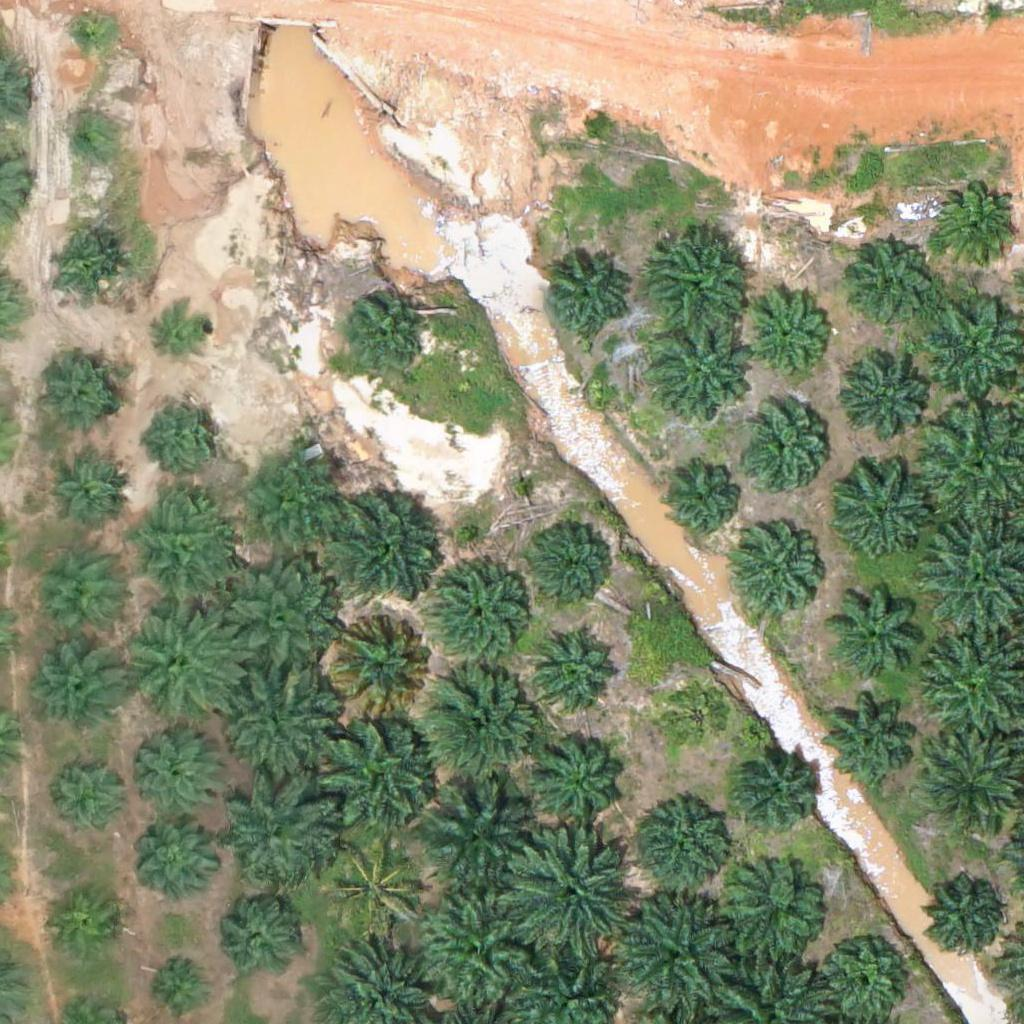Kelapa_Sawit: (119, 595, 244, 721), (322, 480, 447, 606), (316, 714, 441, 840), (219, 661, 344, 787), (216, 767, 341, 893), (418, 656, 543, 782), (414, 887, 539, 1013), (502, 830, 627, 956), (607, 894, 732, 1020), (211, 560, 336, 685), (417, 772, 542, 897), (317, 828, 430, 942), (324, 609, 437, 722), (714, 862, 827, 975), (236, 443, 348, 557), (425, 559, 537, 673), (126, 495, 238, 608), (133, 720, 233, 821), (824, 579, 924, 680), (823, 686, 923, 787), (651, 322, 751, 423), (647, 229, 747, 330), (526, 724, 626, 825), (629, 799, 729, 900), (25, 551, 125, 651), (829, 460, 929, 560), (39, 356, 127, 444), (131, 814, 219, 902), (850, 239, 938, 327), (743, 294, 831, 382), (740, 407, 828, 495), (732, 530, 820, 618), (542, 254, 630, 342), (731, 741, 818, 830), (43, 453, 130, 541), (341, 295, 428, 383), (660, 454, 747, 542), (34, 641, 121, 729), (930, 182, 1017, 270), (844, 358, 931, 446), (211, 894, 298, 982), (534, 624, 621, 712), (529, 519, 616, 607), (47, 231, 122, 307), (149, 394, 224, 470), (660, 677, 735, 753), (47, 882, 122, 957), (56, 762, 131, 837), (926, 880, 1001, 955), (154, 303, 216, 366), (148, 952, 210, 1015), (66, 11, 116, 61), (62, 118, 112, 168)
